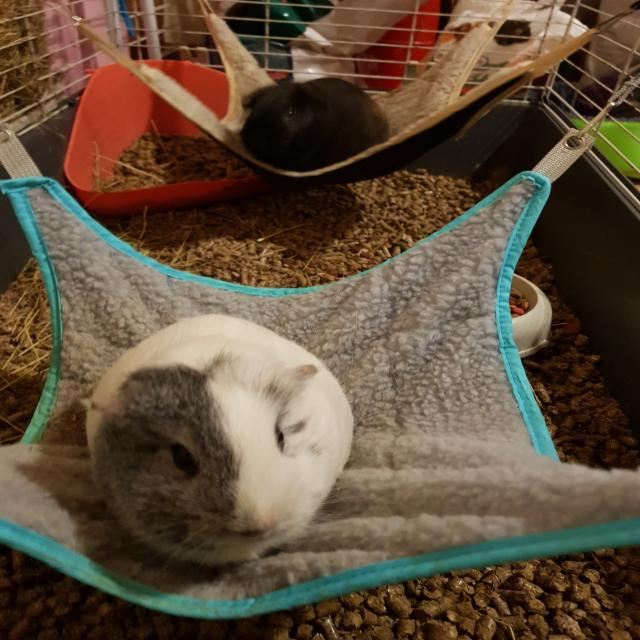guinea pig: (78, 312, 357, 570), (235, 74, 395, 175)
